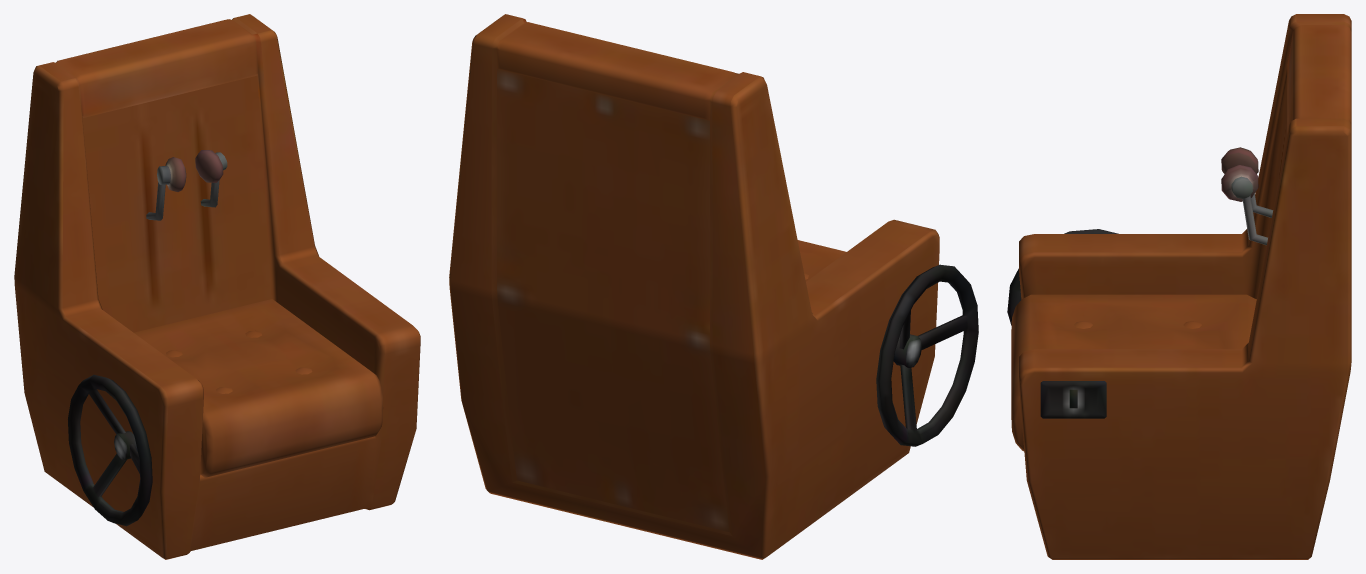
3 renders of one model, left to right at view 1: azimuth 30°, elevation 25°; view 2: azimuth 150°, elevation 25°; view 3: azimuth 270°, elevation 25°, orthographic. The views are drawn at different scales.
Size of the model in its own units: 9.19 by 12.02 by 8.72.
Materials: 1 (1 with a texture image).
